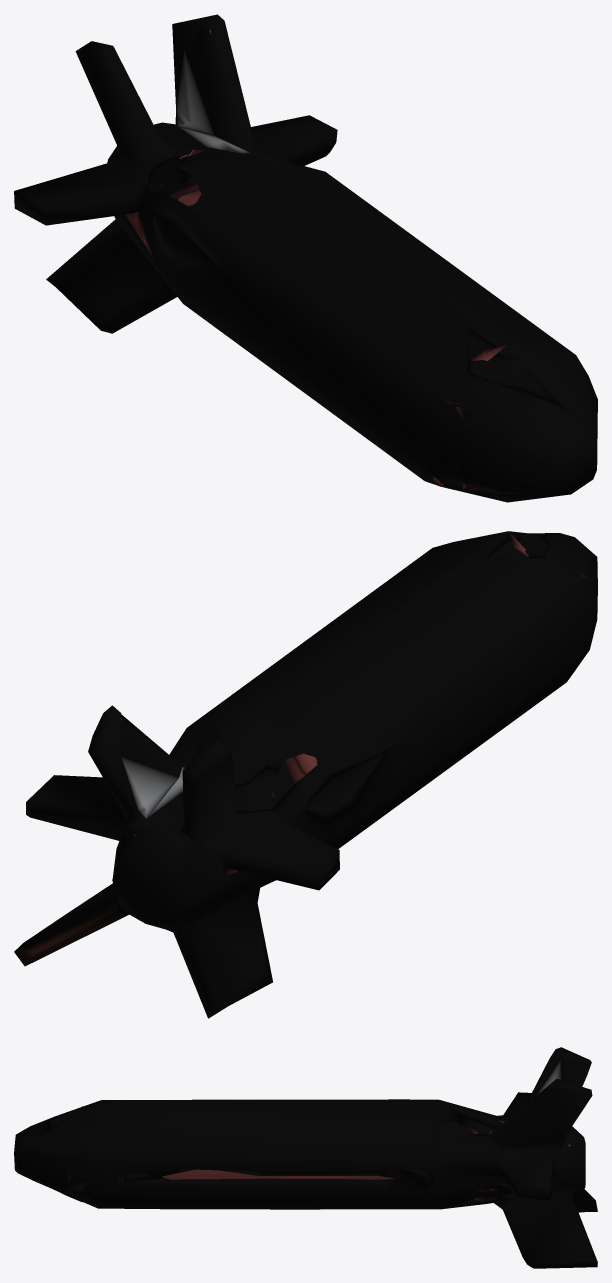
The model's file is gen3d-torpedo-lod1.glb.
The picture shows the model from 3 angles, top to bottom: view 1: azimuth 30°, elevation 25°; view 2: azimuth 150°, elevation 25°; view 3: azimuth 270°, elevation 25°; orthographic projection. The views are drawn at different scales.
Parts seen in each view (by area): view 1: part_0; view 2: part_0; view 3: part_0.
Part boxes in pixels (<box>): part_0: <box>14,14,597,502</box>; part_0: <box>14,531,597,1018</box>; part_0: <box>14,1047,597,1268</box>.
Bounding box in the file's own units: 1.14 × 0.9927 × 2.9.
